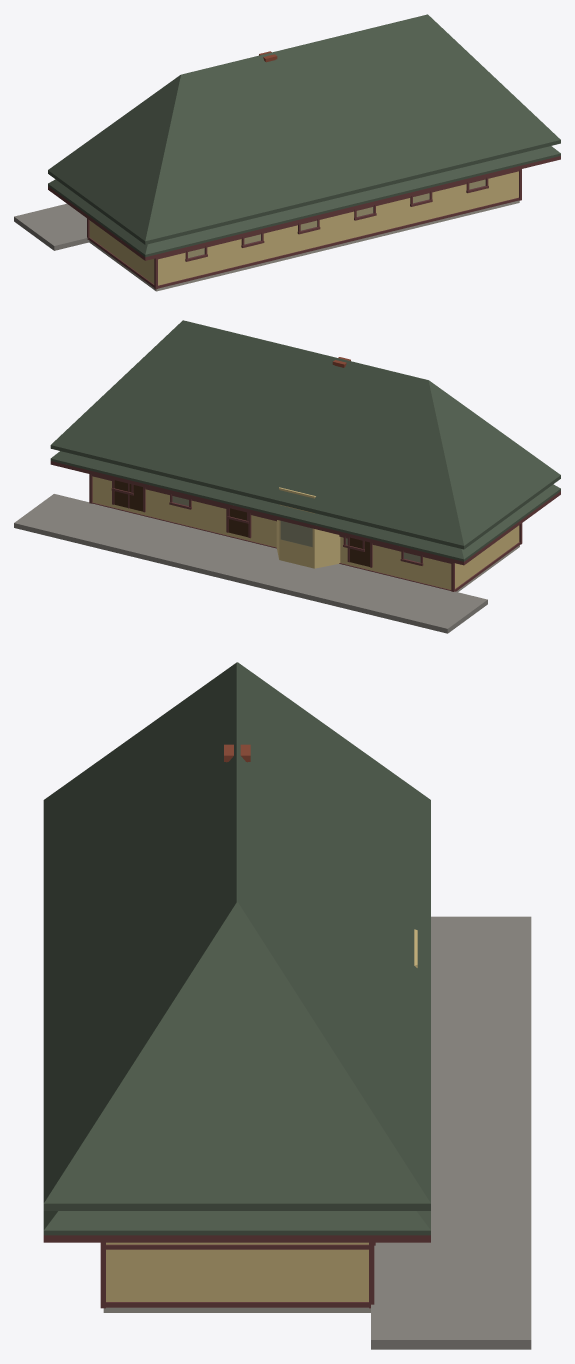
File: Monroe_Depot.glb
3 views of the same model, one above another, from view 1: azimuth 30°, elevation 25°; view 2: azimuth 150°, elevation 25°; view 3: azimuth 270°, elevation 25° (orthographic). The views are drawn at different scales.
Parts seen in each view (by area): view 1: roof, walls, trim, platform, foundation, sash, glass; view 2: roof, platform, walls, trim, doors, glass, sash; view 3: roof, platform, walls, trim, foundation.
Boxes of the visible parts, x1=… form: roof: x1=48, y1=14, x2=560, y2=257; walls: x1=89, y1=171, x2=518, y2=285; trim: x1=48, y1=156, x2=560, y2=289; platform: x1=14, y1=203, x2=89, y2=250; foundation: x1=89, y1=200, x2=519, y2=291; sash: x1=185, y1=177, x2=488, y2=261; glass: x1=188, y1=179, x2=485, y2=258; roof: x1=50, y1=320, x2=560, y2=561; platform: x1=14, y1=494, x2=487, y2=633; walls: x1=92, y1=476, x2=519, y2=589; trim: x1=50, y1=461, x2=560, y2=591; doors: x1=114, y1=480, x2=369, y2=566; glass: x1=172, y1=496, x2=420, y2=562; sash: x1=111, y1=479, x2=423, y2=565; roof: x1=43, y1=662, x2=430, y2=1235; platform: x1=371, y1=916, x2=531, y2=1349; walls: x1=106, y1=929, x2=417, y2=1301; trim: x1=43, y1=1235, x2=430, y2=1308; foundation: x1=103, y1=1307, x2=370, y2=1312.
Size of the model in its own units: 0.7883 by 0.3075 by 0.3836.
